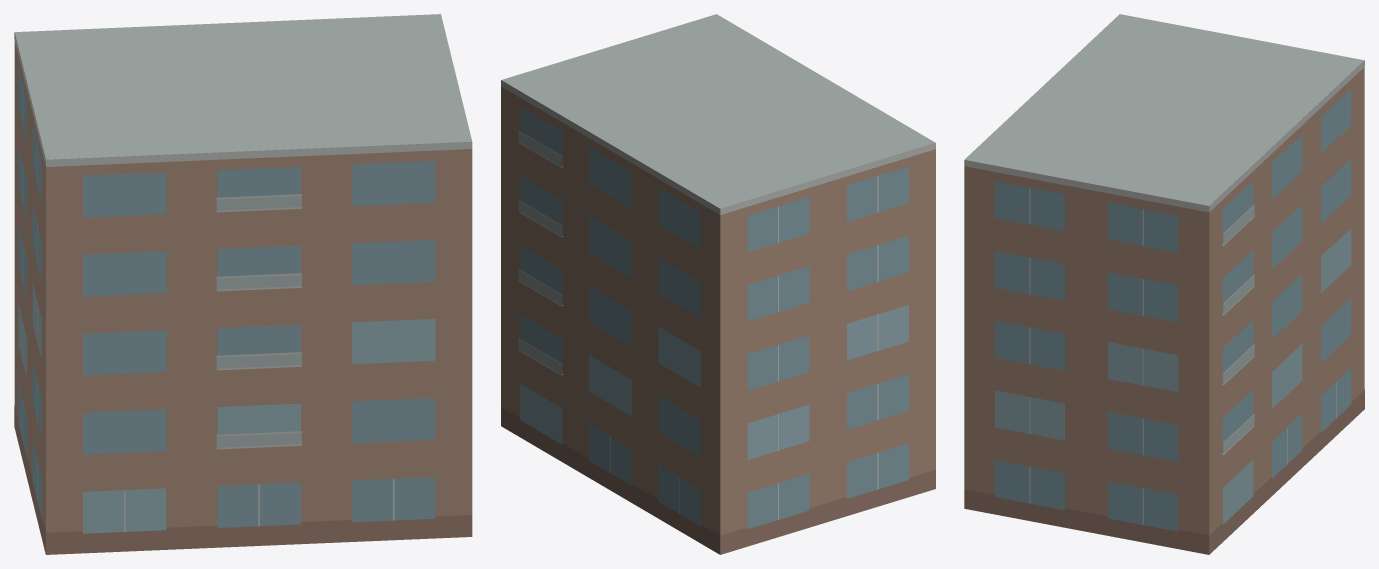
File: survey-upis-32669545.glb
The picture shows the model from 3 angles, left to right: view 1: azimuth 30°, elevation 25°; view 2: azimuth 150°, elevation 25°; view 3: azimuth 270°, elevation 25°; orthographic projection. The views are drawn at different scales.
Visible parts, largest first — view 1: survey-upis-32669545.tmp; view 2: survey-upis-32669545.tmp; view 3: survey-upis-32669545.tmp.
Boxes of the visible parts, x1,y1,x2,y2 form: survey-upis-32669545.tmp: (14, 14, 472, 554); survey-upis-32669545.tmp: (501, 14, 935, 554); survey-upis-32669545.tmp: (964, 14, 1364, 554).
Size of the model in its own units: 15.71 by 13.3 by 13.85.
